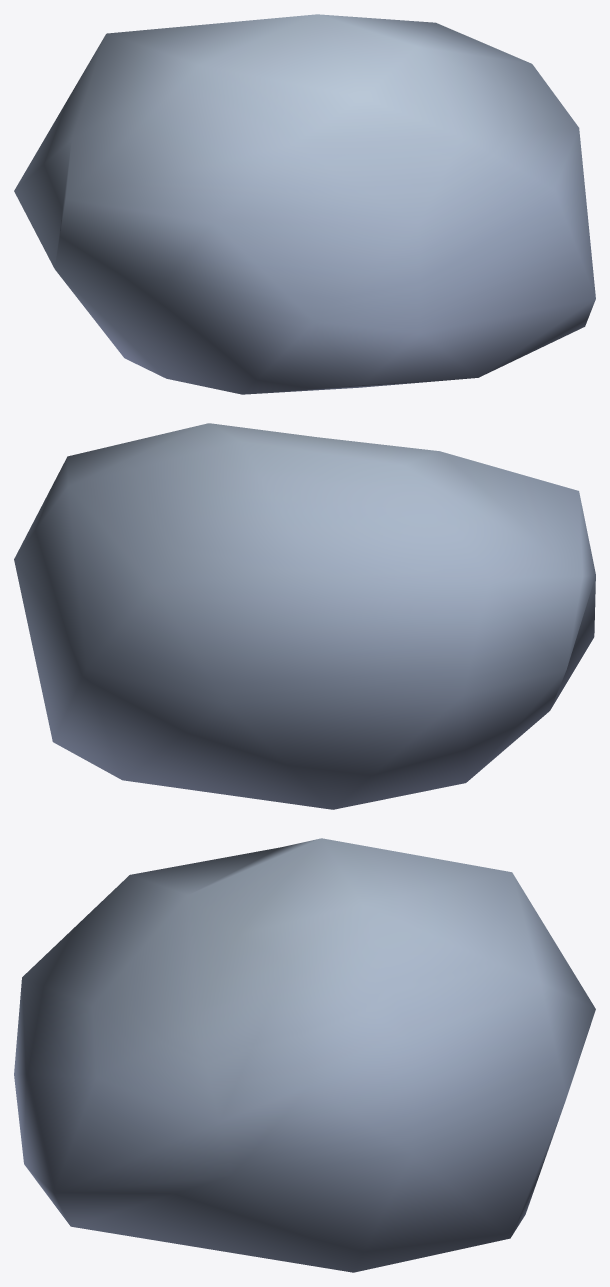
File: rock-3.fbx
The picture shows the model from 3 angles, top to bottom: view 1: azimuth 30°, elevation 25°; view 2: azimuth 150°, elevation 25°; view 3: azimuth 270°, elevation 25°; orthographic projection. The views are drawn at different scales.
Visible parts, largest first — view 1: rock-3; view 2: rock-3; view 3: rock-3.
Boxes of the visible parts, x1,y1,x2,y2 form: rock-3: (14,14,595,394); rock-3: (14,423,595,809); rock-3: (14,838,595,1272).
Bounding box in the file's own units: 63.93 × 39.23 × 63.27.
